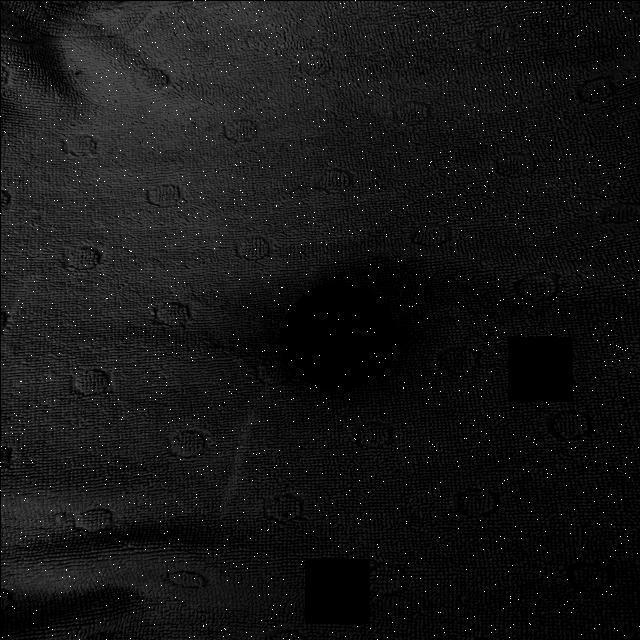egg: (275, 276, 402, 391)
